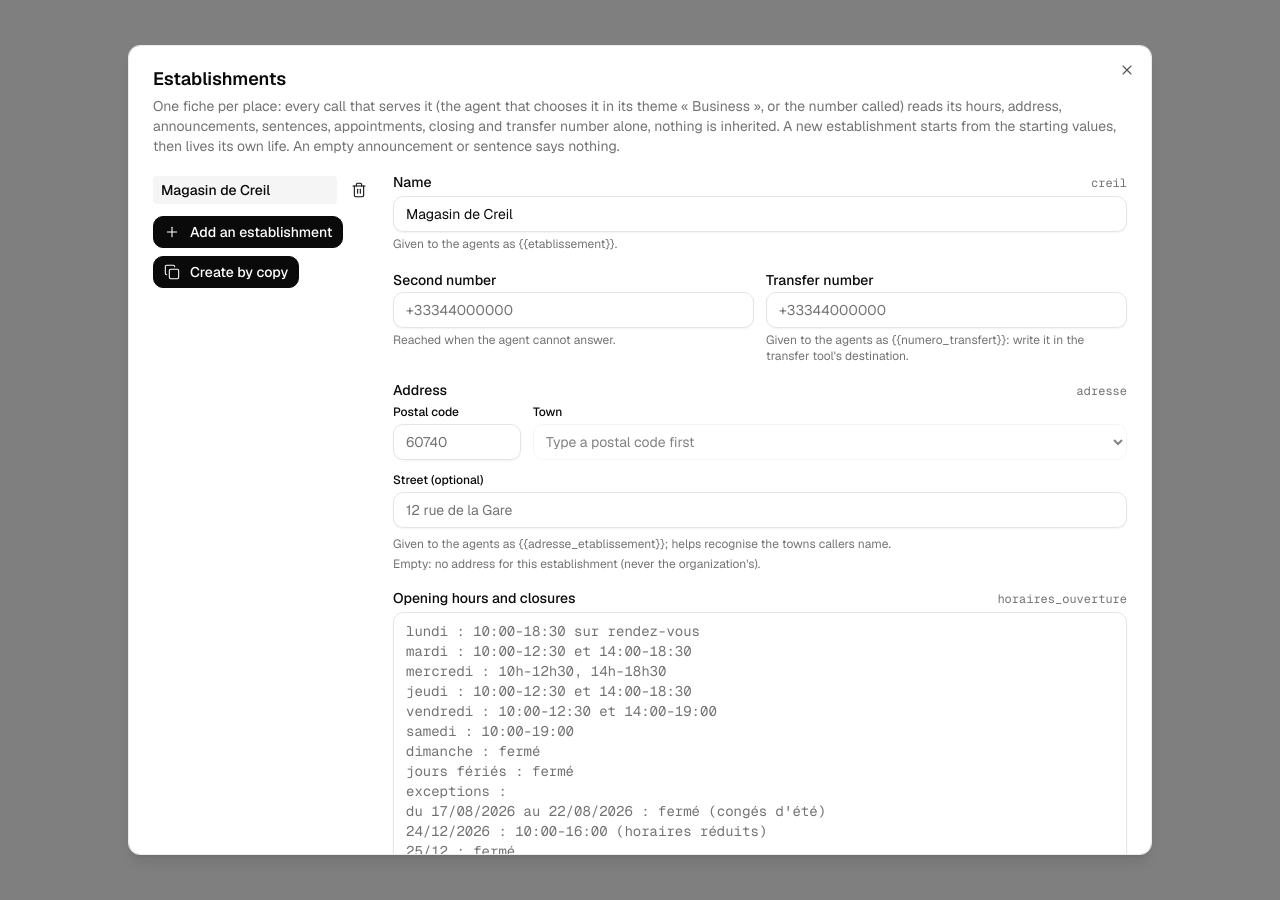
Test: [.mark] « Create by copy » (F2) › is refused while something waits to be saved (the copy is written at once)
Expected: the button with test id "creer-par-copie" is enabled, [153,256,299,288]
Replace the text in the field labelled "Name" with "Creil centre" at (760, 214), box [393,196,1127,232]
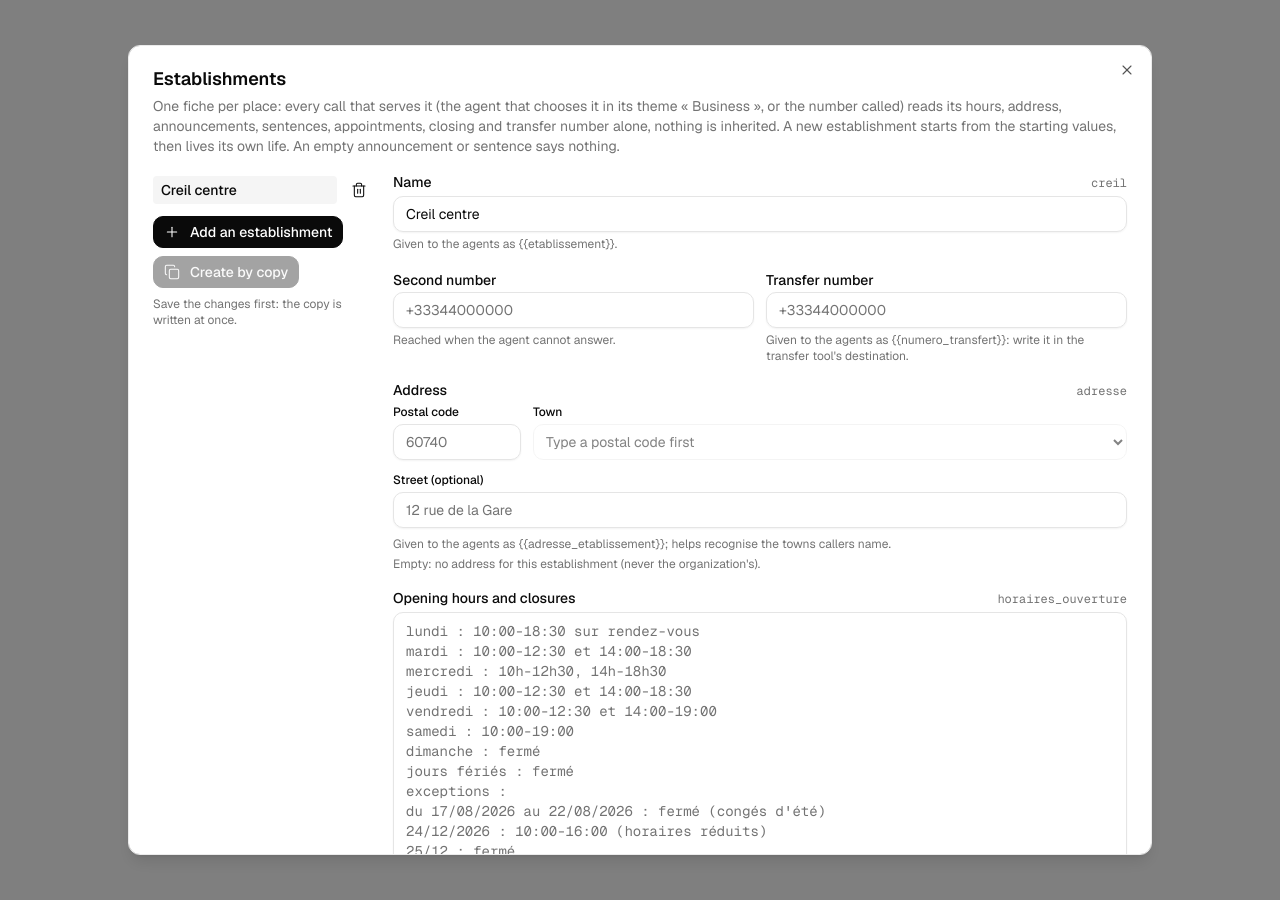
Expected: the button with test id "creer-par-copie" is disabled, [153,256,299,288]
Expected: the text "Save the changes first: the copy is written at once." is shown, [153,296,342,328]
